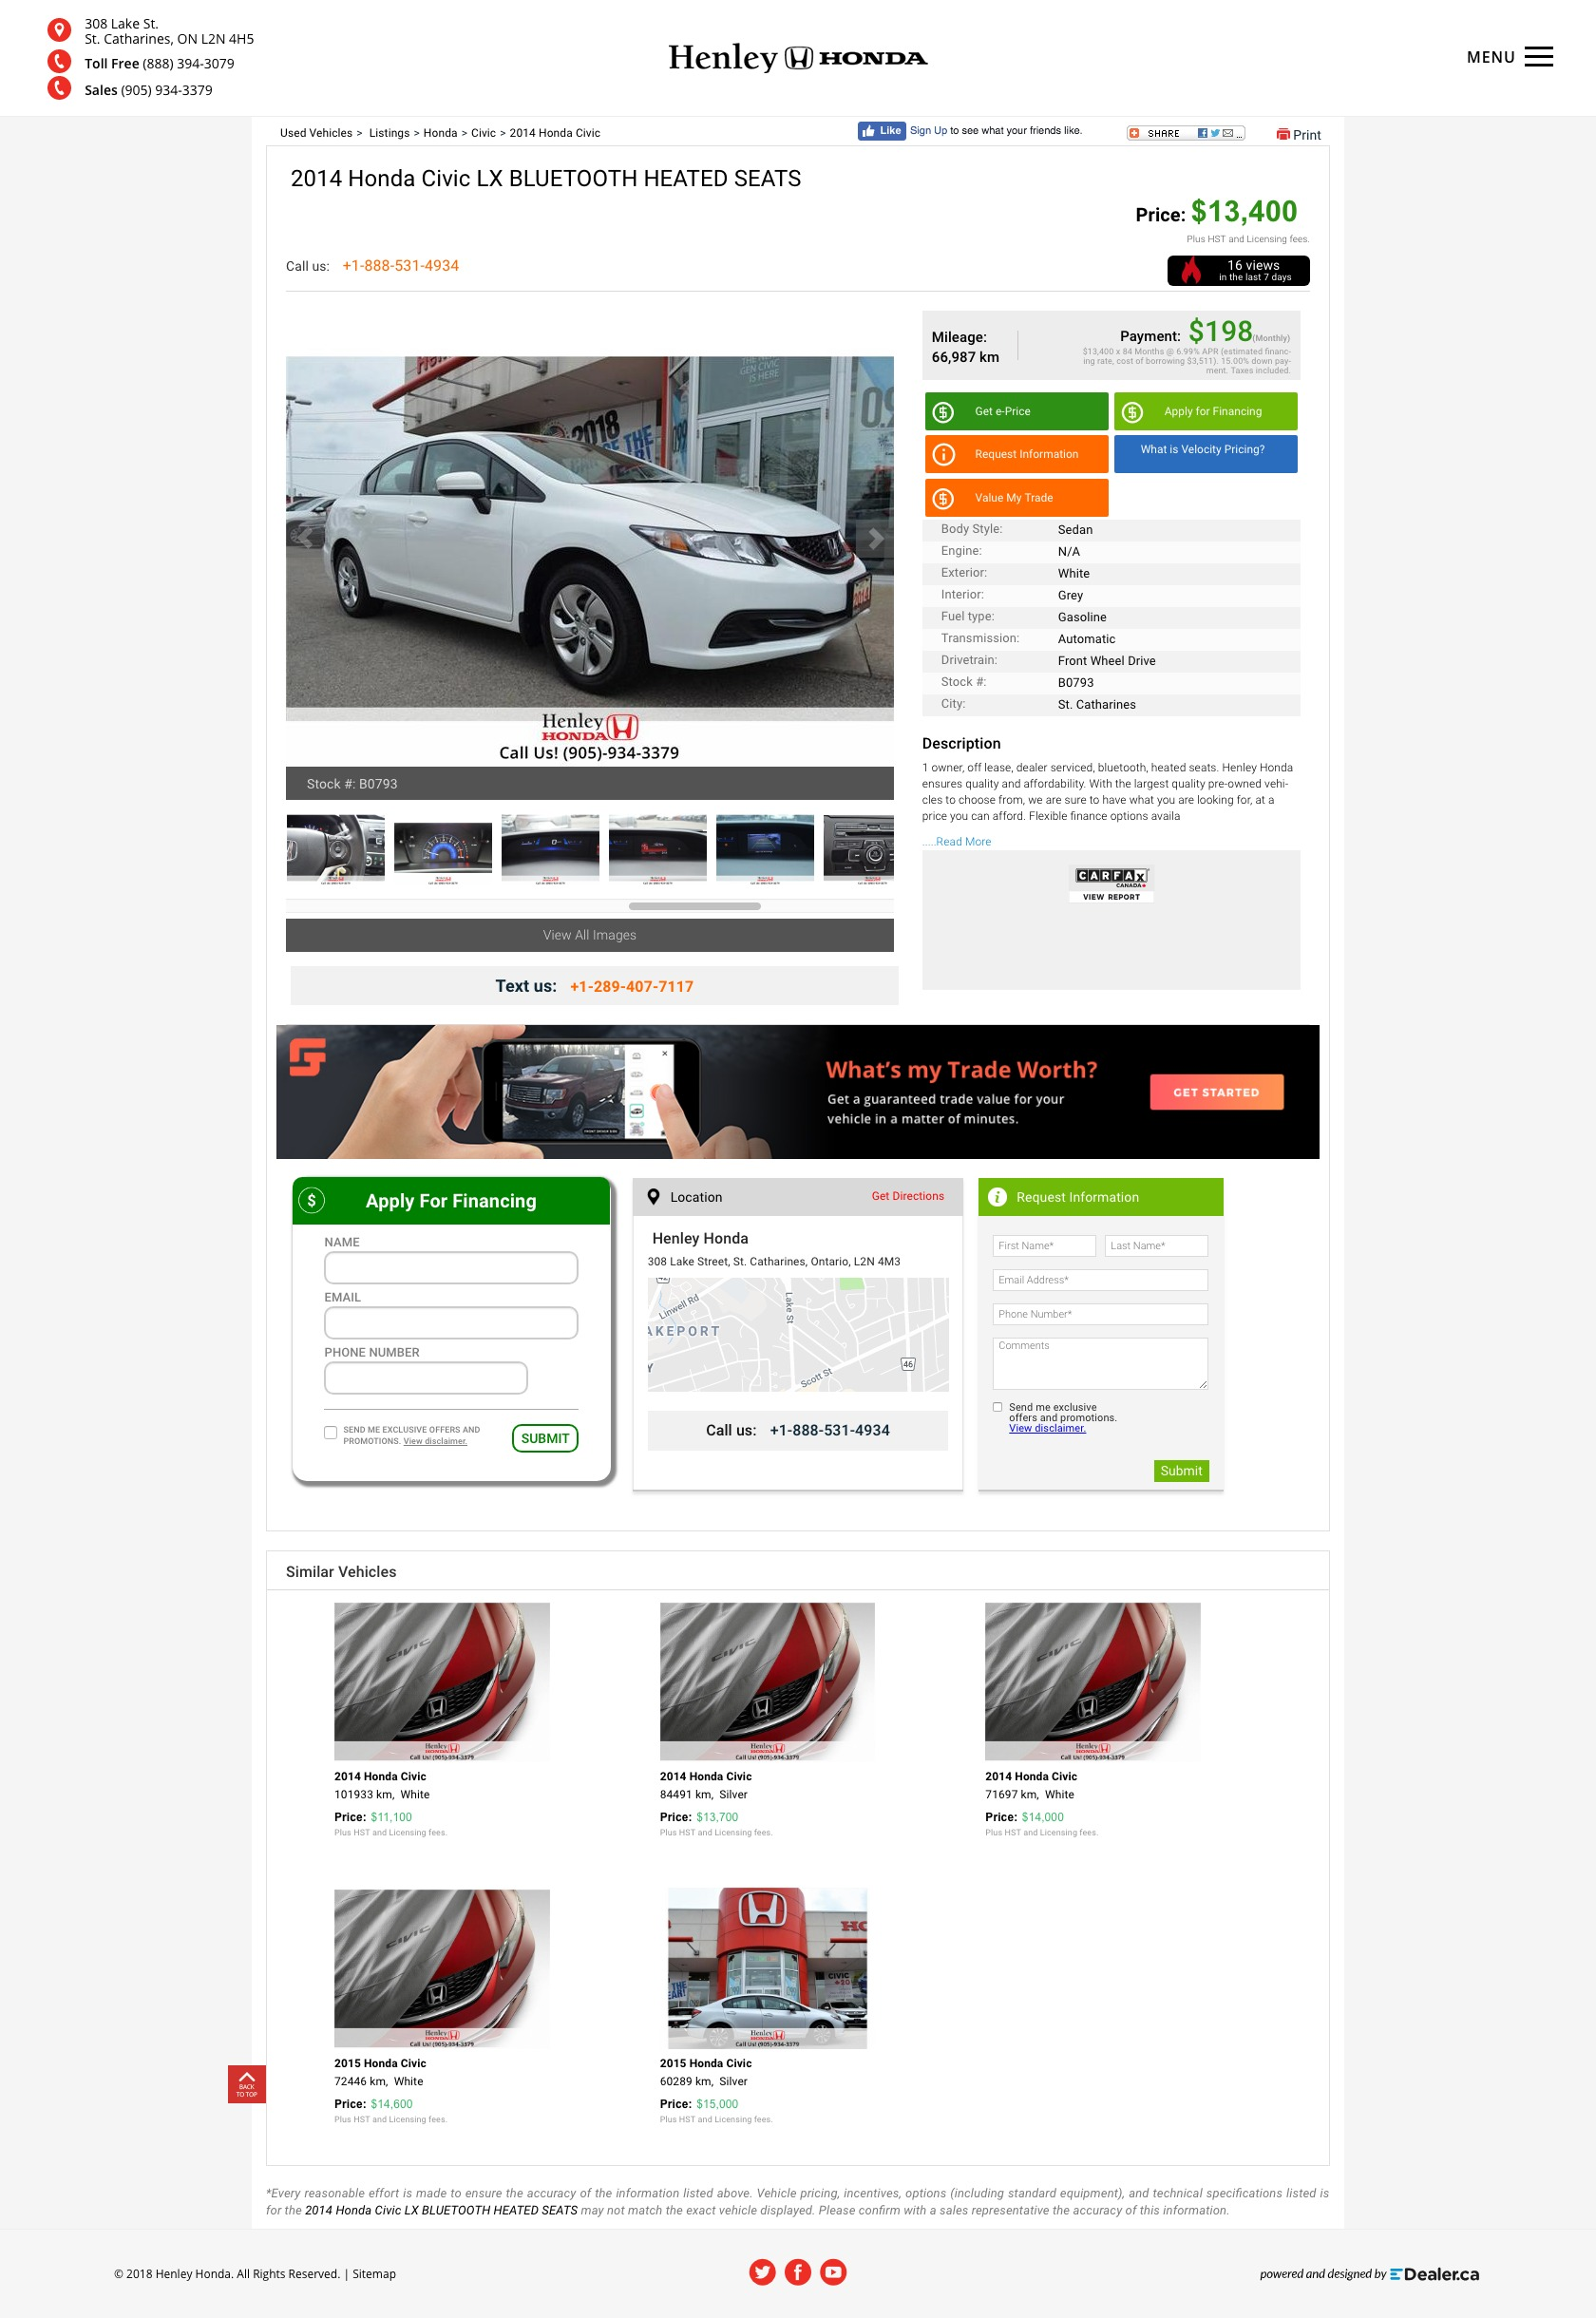car: (868, 528, 886, 551)
